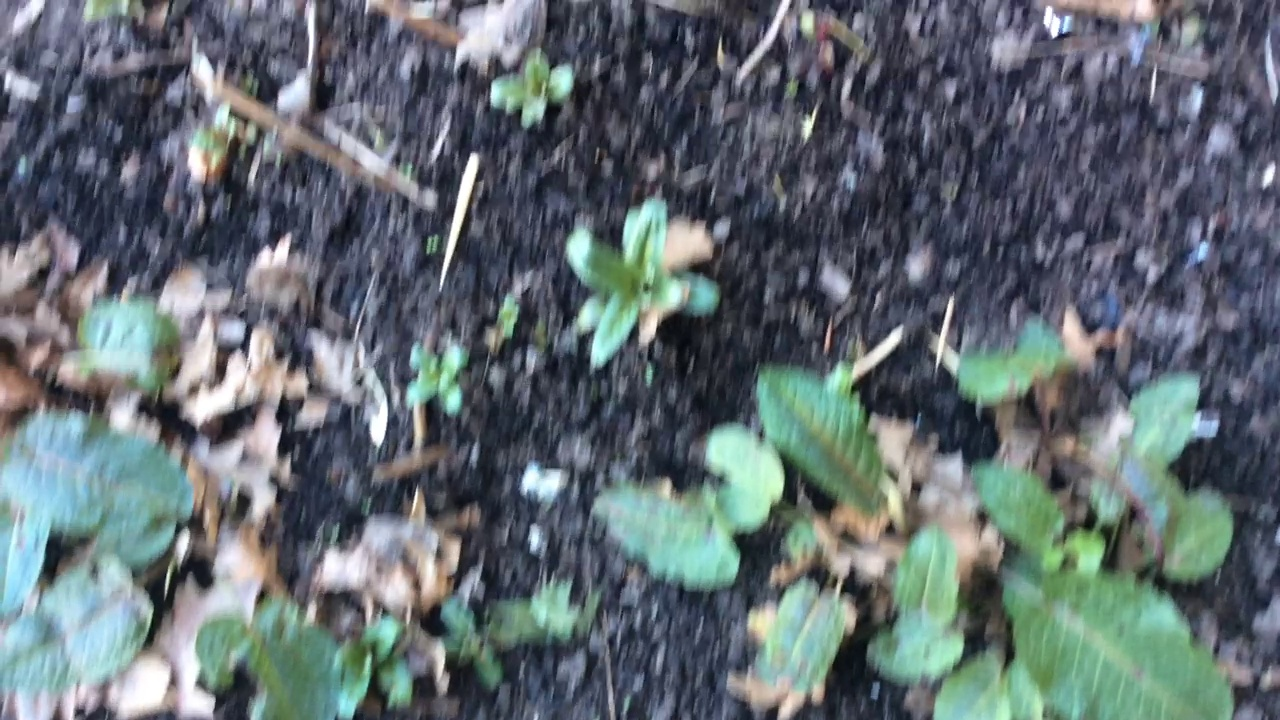rumex: (588, 329, 1239, 720), (11, 299, 356, 720)
